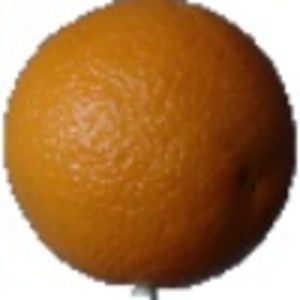laranja: (3, 3, 293, 296)
